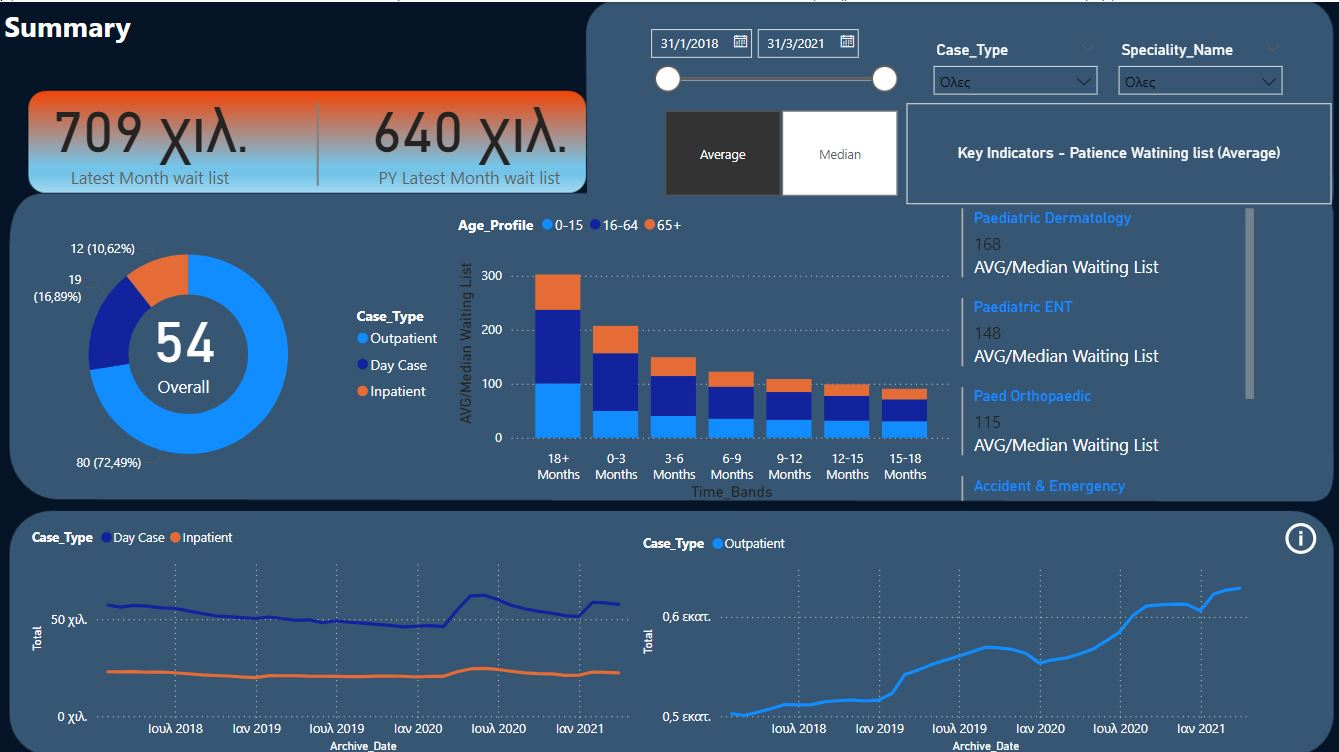

What the dashboard file says about the page in this screenshot:
{"tool":"powerbi","page":{"name":"Summary","canvas":[1280,720],"ordinal":0},"visuals":[{"type":"card","fields":{"Values":["All_Data.No data left"]},"box":[89.3,531,397.6,148.8],"z":0},{"type":"card","fields":{"Values":["All_Data.No data Right"]},"box":[681,544.1,397.6,148.8],"z":1000},{"type":"card","fields":{"Values":["All_Data.Latest Month wait list"]},"box":[0,64,288,128],"z":2000},{"type":"card","fields":{"Values":["All_Data.PY Latest Month wait list"]},"box":[288,64,320,128],"z":3000},{"type":"slicer","fields":{"Values":["Calculation Method.Calc Method"]},"box":[608.3,96.4,271.4,95.2],"z":4000},{"type":"donutChart","fields":{"Y":["All_Data.AVG/Median Waiting List"],"Category":["All_Data.Case_Type"]},"box":[16,192,416,288],"z":5000},{"type":"columnChart","fields":{"Y":["All_Data.AVG/Median Waiting List"],"Category":["All_Data.Time_Bands"],"Series":["All_Data.Age_Profile"]},"box":[432,192,480,288],"z":6000},{"type":"multiRowCard","fields":{"Values":["All_Data.AVG/Median Waiting List","All_Data.Speciality_Name"]},"box":[912,192,288,288],"z":7000},{"type":"lineChart","fields":{"Category":["All_Data.Archive_Date"],"Y":["Sum(All_Data.Total)"],"Series":["All_Data.Case_Type"]},"box":[608.3,496.4,591.7,223.8],"z":8000},{"type":"lineChart","fields":{"Category":["All_Data.Archive_Date"],"Y":["Sum(All_Data.Total)"],"Series":["All_Data.Case_Type"]},"box":[26.2,490.5,582.1,229.8],"z":9000},{"type":"slicer","fields":{"Values":["All_Data.Archive_Date"]},"box":[608,16,256,96],"z":10000},{"type":"slicer","fields":{"Values":["All_Data.Case_Type"]},"box":[880,32,176,64],"z":11000},{"type":"slicer","fields":{"Values":["All_Data.Speciality_Name"]},"box":[1056,32,176,64],"z":12000},{"type":"textbox","box":[0,0,160,64],"z":13000},{"type":"card","fields":{"Values":["All_Data.AVG/Median Waiting List"]},"box":[112,272,128,112],"z":14000},{"type":"shape","box":[159.5,96.4,288.1,78.6],"z":15000},{"type":"card","fields":{"Values":["All_Data.Dynamic Title"]},"box":[864.3,96.4,404.8,96.4],"z":16000},{"type":"actionButton","box":[1220.2,490.5,39.3,40.5],"z":17000}]}

Visuals, with their boxes in screenshot pixels (x1, y1, x2, y2), scaled from the page's 1280x720 canvas onto the 1339x752 screenshot:
card - All_Data.No data left: <region>93, 555, 509, 710</region>
card - All_Data.No data Right: <region>712, 568, 1128, 724</region>
card - All_Data.Latest Month wait list: <region>0, 67, 301, 201</region>
card - All_Data.PY Latest Month wait list: <region>301, 67, 636, 201</region>
slicer - Calculation Method.Calc Method: <region>636, 101, 920, 200</region>
donutChart - All_Data.AVG/Median Waiting List x All_Data.Case_Type: <region>17, 201, 452, 501</region>
columnChart - All_Data.AVG/Median Waiting List x All_Data.Time_Bands: <region>452, 201, 954, 501</region>
multiRowCard - All_Data.AVG/Median Waiting List x All_Data.Speciality_Name: <region>954, 201, 1255, 501</region>
lineChart - All_Data.Archive_Date x Sum(All_Data.Total): <region>636, 518, 1255, 751</region>
lineChart - All_Data.Archive_Date x Sum(All_Data.Total): <region>27, 512, 636, 751</region>
slicer - All_Data.Archive_Date: <region>636, 17, 904, 117</region>
slicer - All_Data.Case_Type: <region>921, 33, 1105, 100</region>
slicer - All_Data.Speciality_Name: <region>1105, 33, 1289, 100</region>
textbox: <region>0, 0, 167, 67</region>
card - All_Data.AVG/Median Waiting List: <region>117, 284, 251, 401</region>
shape: <region>167, 101, 468, 183</region>
card - All_Data.Dynamic Title: <region>904, 101, 1328, 201</region>
actionButton: <region>1276, 512, 1318, 555</region>
